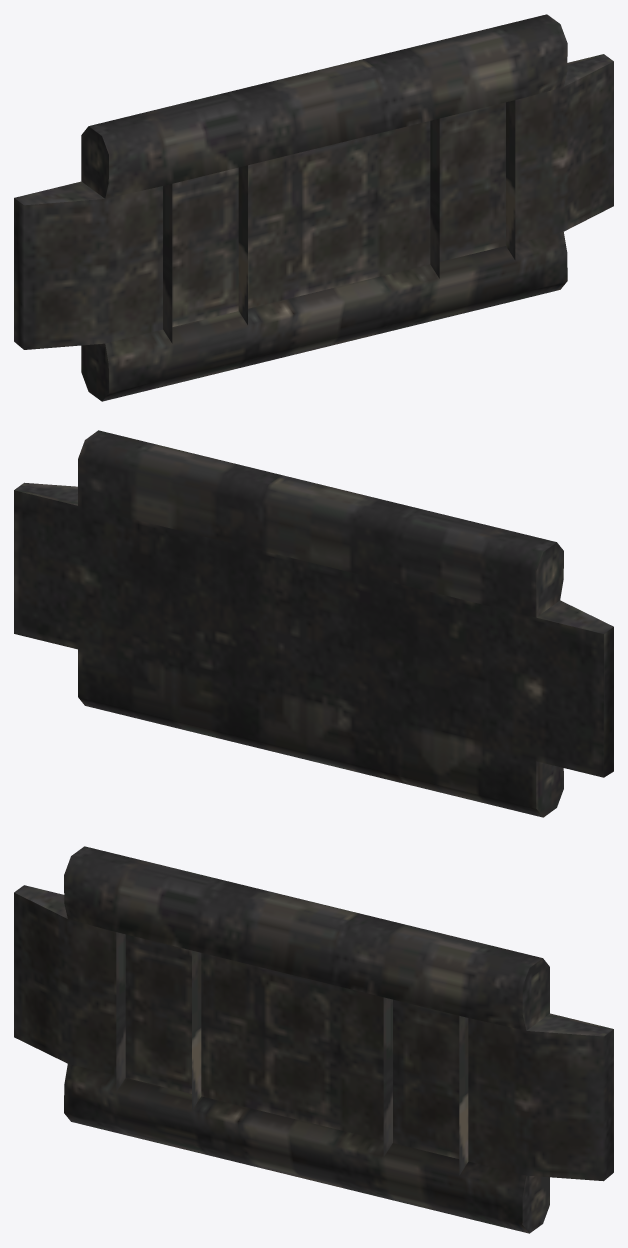
The picture shows the model from 3 angles, top to bottom: view 1: azimuth 30°, elevation 25°; view 2: azimuth 150°, elevation 25°; view 3: azimuth 330°, elevation 25°; orthographic projection.
Parts seen in each view (by area): view 1: set_0_group_0; view 2: set_0_group_0; view 3: set_0_group_0.
Part boxes in pixels (x1,y1,x2,y2): set_0_group_0: [14, 14, 613, 401]; set_0_group_0: [14, 430, 613, 817]; set_0_group_0: [14, 846, 613, 1233].
Size of the model in its own units: 0.499 by 0.2148 by 0.0484.
Materials: 1 (1 with a texture image).
